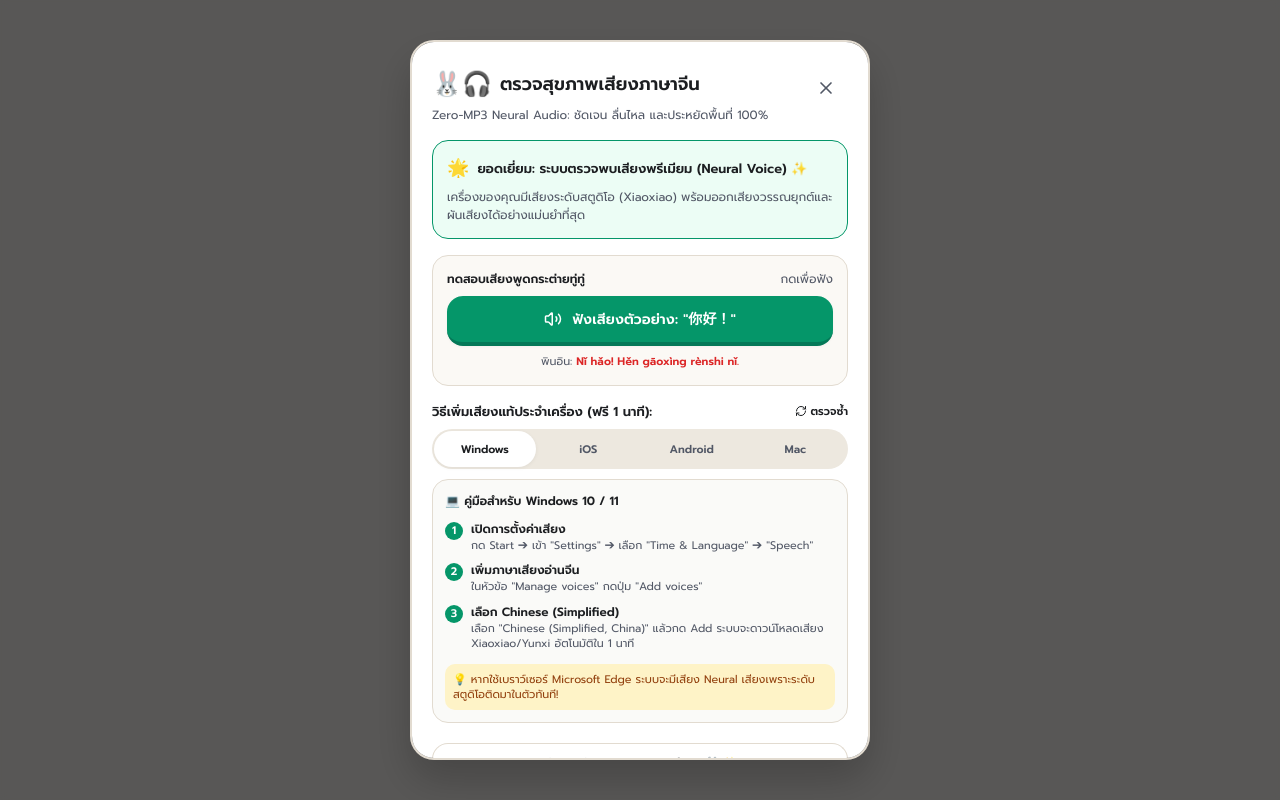
Scenario: VoiceHealthModal Component › allows switching OS installation guide tabs (iOS / Android / Mac)
Click the button "iOS" at [588, 449], box x1=538 y1=431 x2=639 y2=467
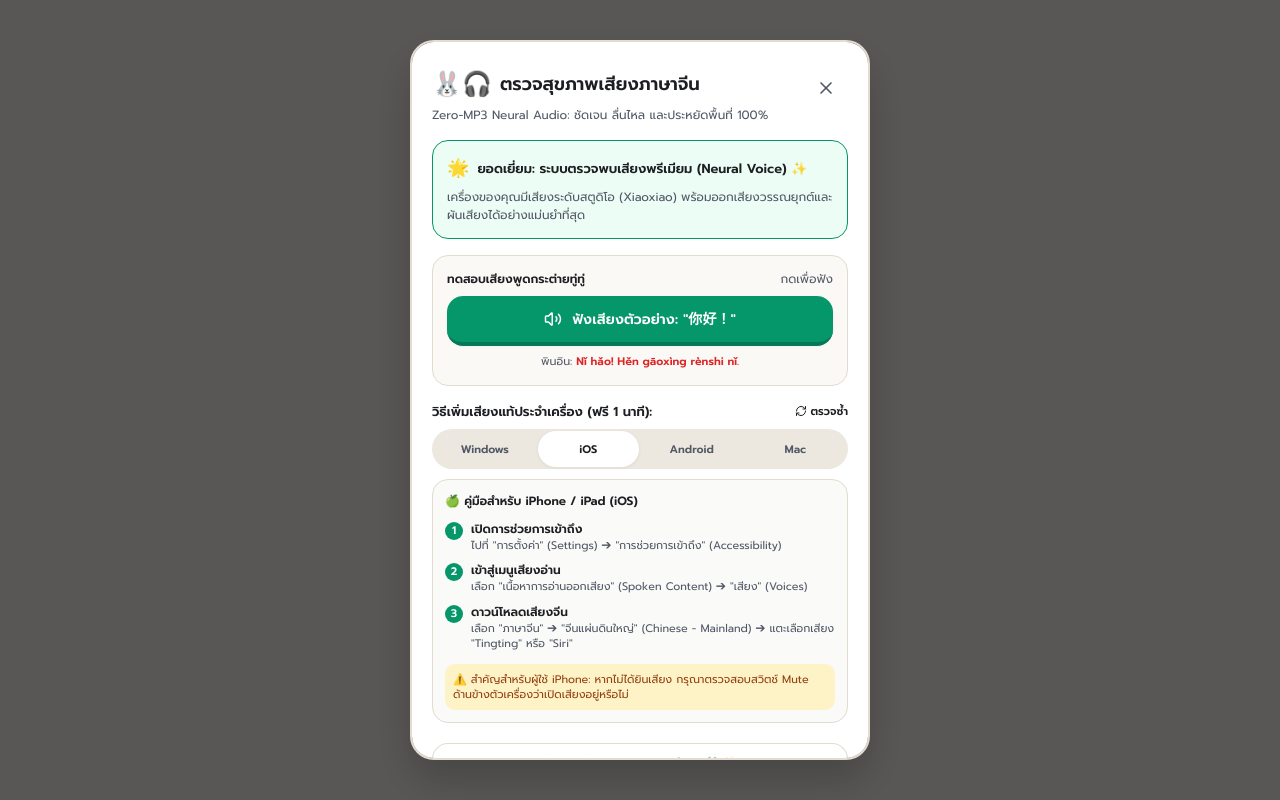
Now the text "iPhone / iPad" is shown, box x1=526 y1=492 x2=638 y2=510
Now the text "Mute" is shown, box x1=453 y1=671 x2=809 y2=703
